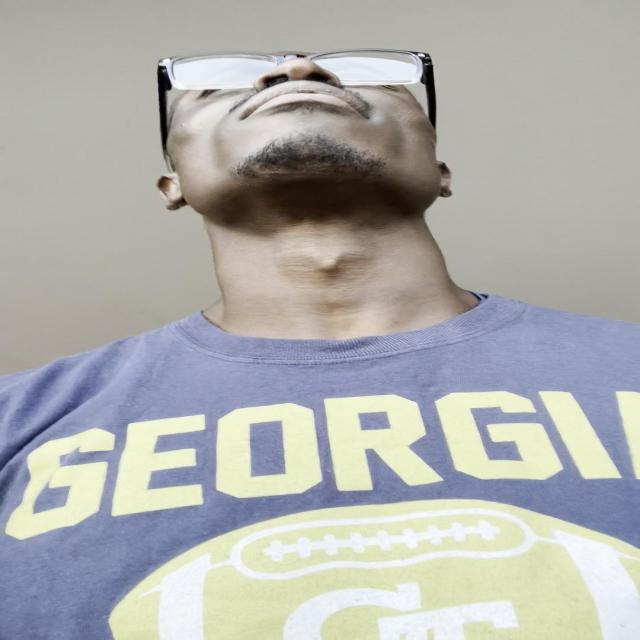NO-Mask: (158, 53, 448, 209)
